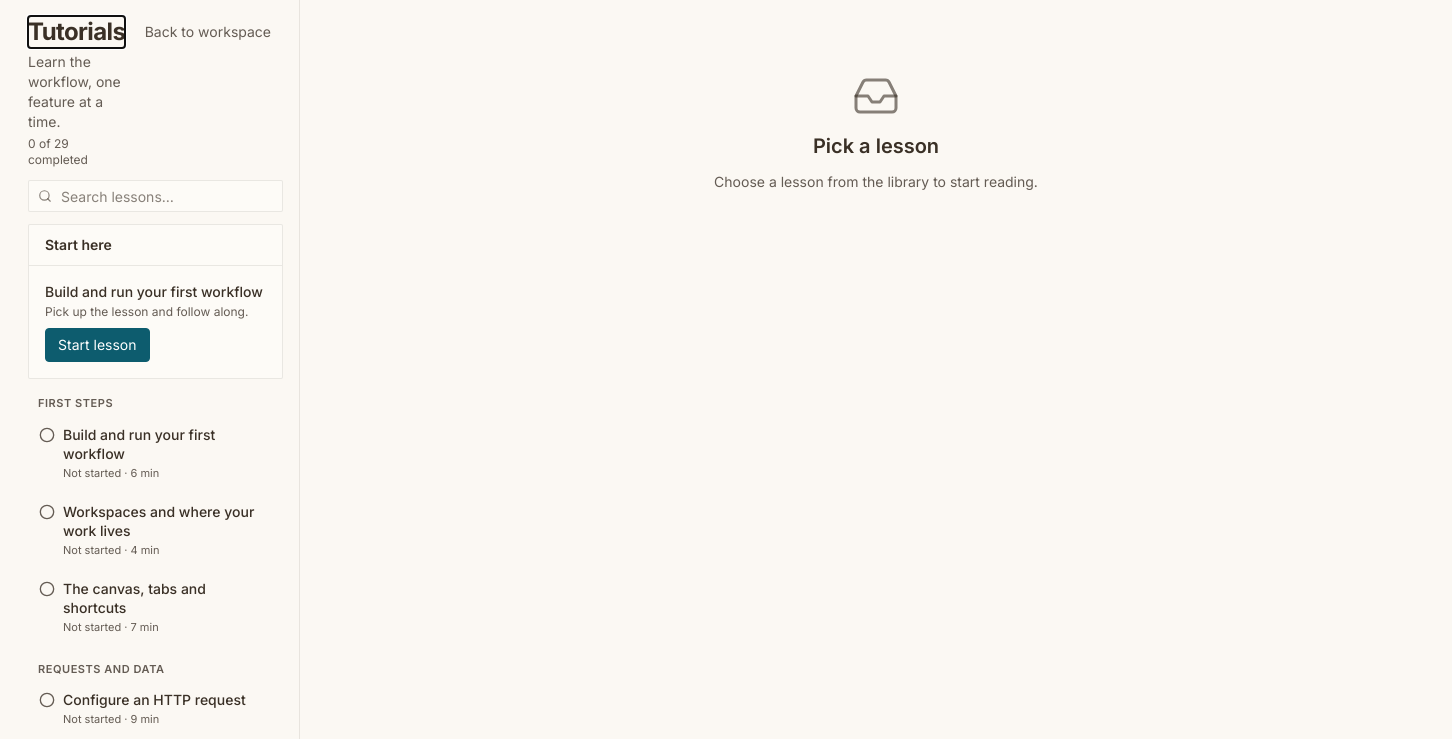
it: TutorialPage library › filters by search and reports no results
Type "finish trigger" into the field labelled "Search lessons" at (156, 196), box [28,180,283,212]
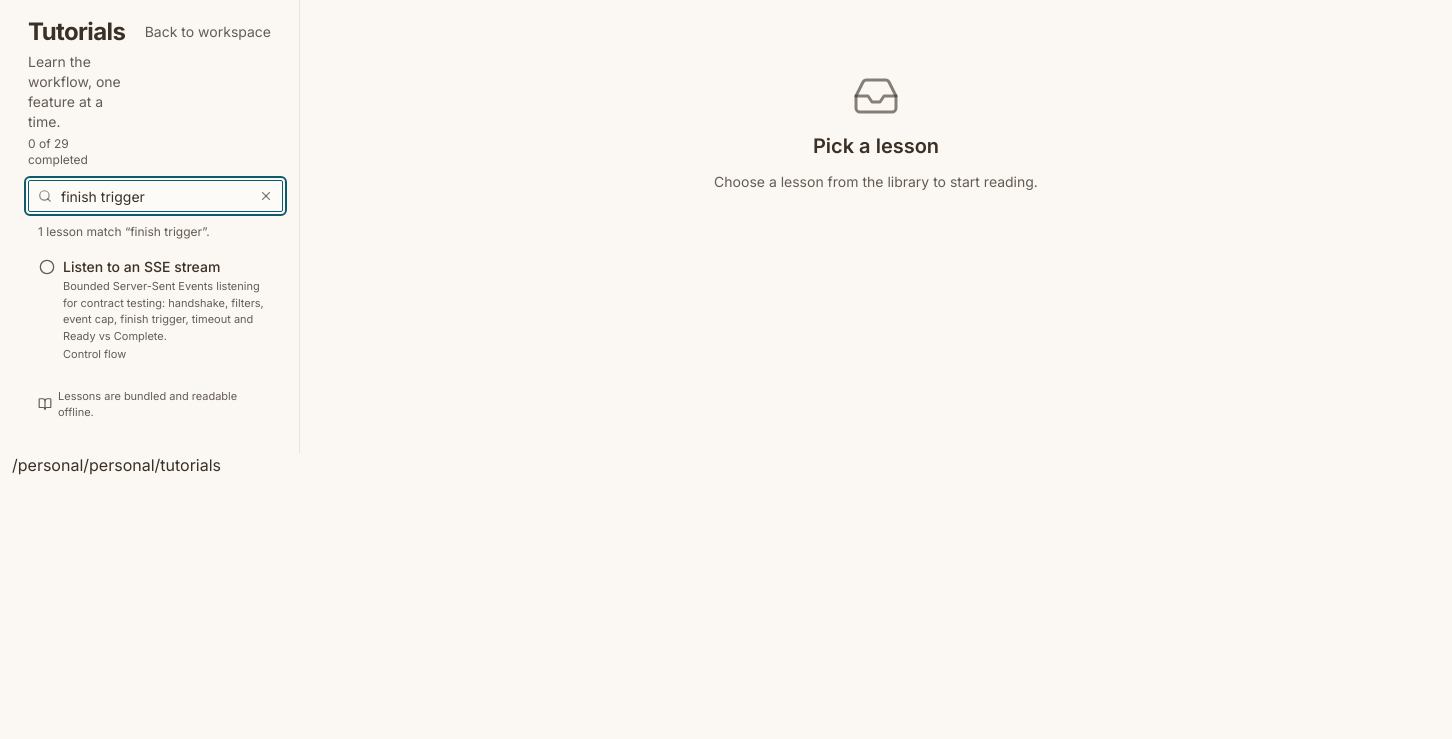
Now the button "Listen to an SSE stream" is shown, box [28,248,283,372]
Replace the text in the field named "Search lessons" with "zzzznotathing" at (156, 196), box [28,180,283,212]
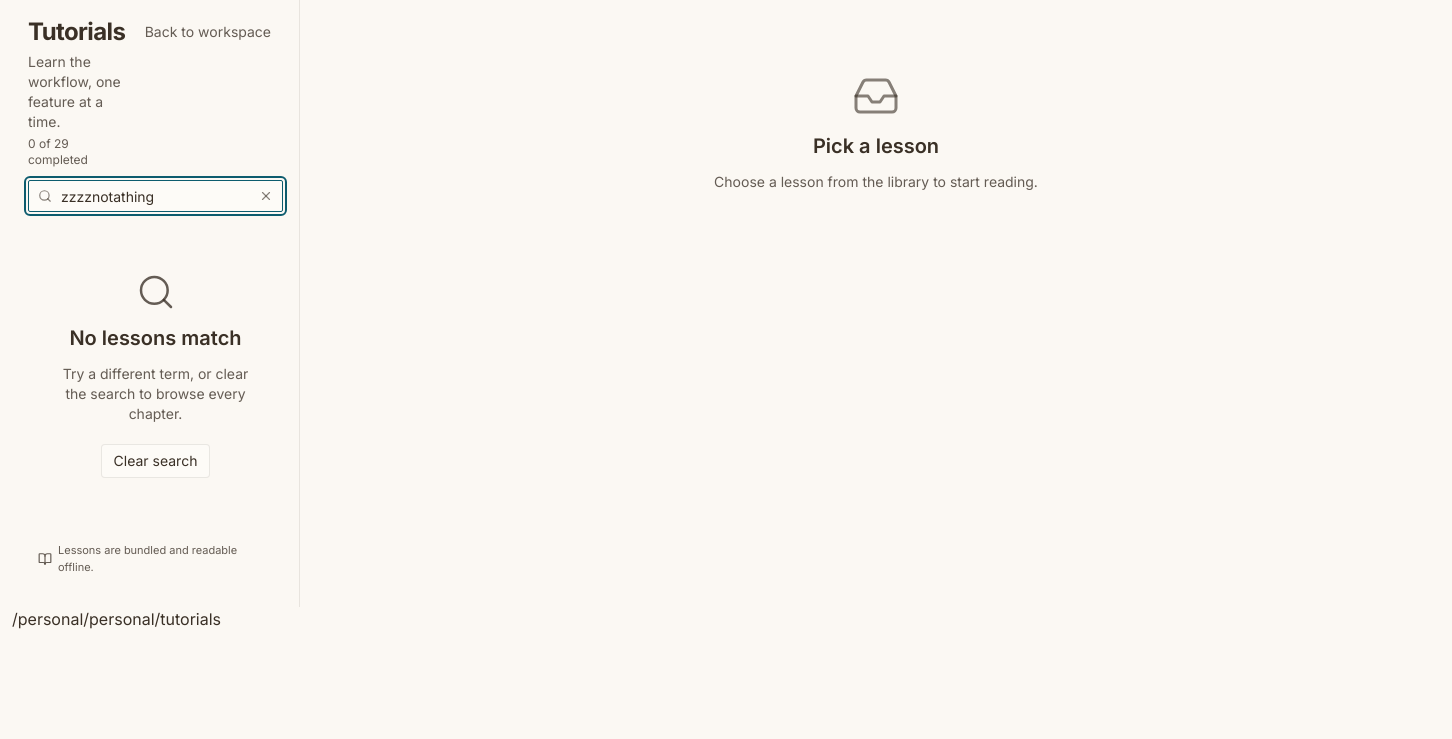
Now the heading "No lessons match" is shown, box [69,324,242,352]
Click the button "Clear search" at (156, 461), box [101,444,210,478]
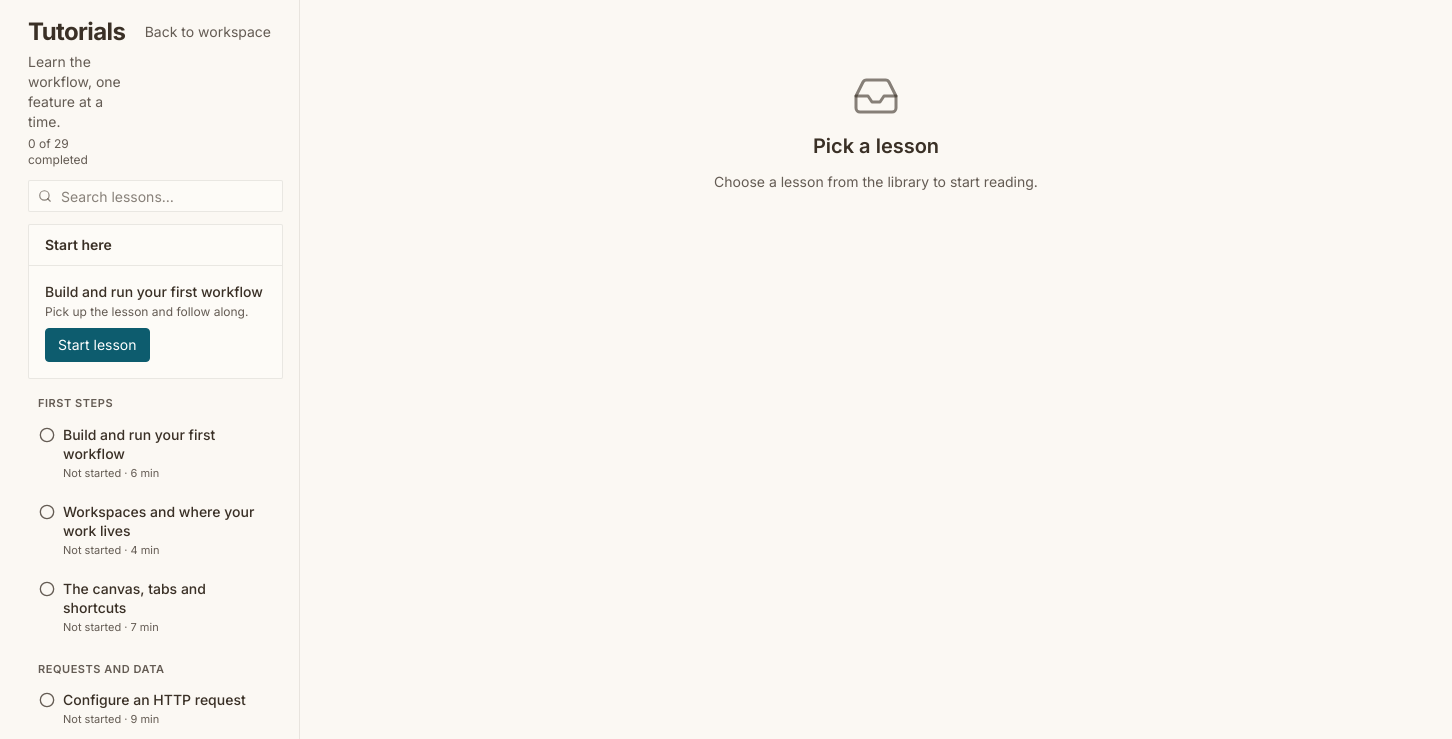
Now the button "Build and run your first workflow Not started · 6 min" is shown, box [28,416,283,490]
